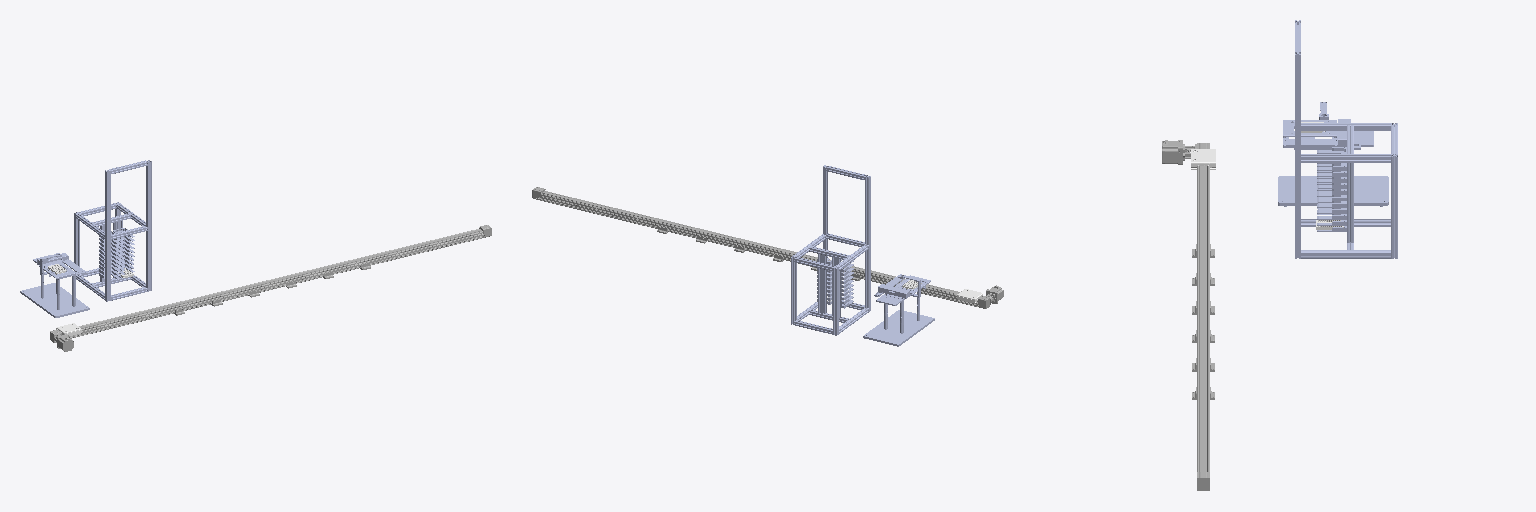
robot.urdf — Digital_twin_lab-3:
<?xml version="1.0" encoding="utf-8"?>
<!-- This URDF was automatically created by SolidWorks to URDF Exporter! Originally created by [author] ([email redacted]) 
     Commit Version: 1.6.0-4-g7f85cfe  Build Version: 1.6.7995.38578
     For more information, please see http://wiki.ros.org/sw_urdf_exporter -->
<robot
  name="Digital_twin_lab-3">
  <link
    name="base_link">
    <inertial>
      <origin
        xyz="1.78900440586769 -0.881080760642453 -0.1165449489918"
        rpy="0 0 0" />
      <mass
        value="199.608158242893" />
      <inertia
        ixx="10.5666582157859"
        ixy="1.27793031995562E-10"
        ixz="2.82196989777788E-10"
        iyy="42.9924156247687"
        iyz="5.91605791574804E-11"
        izz="52.3672725427771" />
    </inertial>
    <visual>
      <origin
        xyz="0 0 0"
        rpy="0 0 0" />
      <geometry>
        <mesh
          filename="package://Digital_twin_lab-3/meshes/base_link.STL" />
      </geometry>
      <material
        name="">
        <color
          rgba="0.752941176470588 0.752941176470588 0.752941176470588 1" />
      </material>
    </visual>
    <collision>
      <origin
        xyz="0 0 0"
        rpy="0 0 0" />
      <geometry>
        <mesh
          filename="package://Digital_twin_lab-3/meshes/base_link.STL" />
      </geometry>
    </collision>
  </link>
  <link
    name="slide-rail">
    <inertial>
      <origin
        xyz="-1.43995243789554 -0.866665161394356 -0.200928921167978"
        rpy="0 0 0" />
      <mass
        value="9.10141973800343" />
      <inertia
        ixx="0.00462584403154433"
        ixy="-2.47766910593198E-07"
        ixz="2.22783567848517E-08"
        iyy="7.2200527077908"
        iyz="6.58677957713716E-06"
        izz="7.22100259175683" />
    </inertial>
    <visual>
      <origin
        xyz="0 0 0"
        rpy="0 0 0" />
      <geometry>
        <mesh
          filename="package://Digital_twin_lab-3/meshes/slide-rail.STL" />
      </geometry>
      <material
        name="">
        <color
          rgba="0.752941176470588 0.752941176470588 0.752941176470588 1" />
      </material>
    </visual>
    <collision>
      <origin
        xyz="0 0 0"
        rpy="0 0 0" />
      <geometry>
        <mesh
          filename="package://Digital_twin_lab-3/meshes/slide-rail.STL" />
      </geometry>
    </collision>
  </link>
  <joint
    name="slide-rail-j"
    type="fixed">
    <origin
      xyz="3.08771486040588 -0.0803389725836143 0.244946823793314"
      rpy="0 0 0" />
    <parent
      link="base_link" />
    <child
      link="slide-rail" />
    <axis
      xyz="0 0 0" />
  </joint>
  <link
    name="slide">
    <inertial>
      <origin
        xyz="0.0726026016397733 0.00430886913851669 0.0405868162079005"
        rpy="0 0 0" />
      <mass
        value="0.419983323514115" />
      <inertia
        ixx="0.000608866562581119"
        ixy="2.96122492561252E-10"
        ixz="1.1348537052061E-09"
        iyy="0.000510747138587582"
        iyz="-1.16613327497699E-06"
        izz="0.00103925065608287" />
    </inertial>
    <visual>
      <origin
        xyz="0 0 0"
        rpy="0 0 0" />
      <geometry>
        <mesh
          filename="package://Digital_twin_lab-3/meshes/slide.STL" />
      </geometry>
      <material
        name="">
        <color
          rgba="1 1 1 1" />
      </material>
    </visual>
    <collision>
      <origin
        xyz="0 0 0"
        rpy="0 0 0" />
      <geometry>
        <mesh
          filename="package://Digital_twin_lab-3/meshes/slide.STL" />
      </geometry>
    </collision>
  </link>
  <joint
    name="slide-j"
    type="prismatic">
    <origin
      xyz="0.081634 -0.94164 0.033447"
      rpy="0 0 0" />
    <parent
      link="base_link" />
    <child
      link="slide" />
    <axis
      xyz="-1 0 0" />
    <limit
      lower="-3.5"
      upper="0"
      effort="0"
      velocity="0" />
  </joint>
  
  <link
    name="squid">
    <inertial>
      <origin
        xyz="-0.00217519723344878 -0.0152297106388054 0.107745951384963"
        rpy="0 0 0" />
      <mass
        value="3.63619504672605" />
      <inertia
        ixx="0.0528314659485866"
        ixy="0.000282892683176604"
        ixz="3.98656771778672E-06"
        iyy="0.0195251698514204"
        iyz="6.618724619776E-07"
        izz="0.0673167761503225" />
    </inertial>
    <visual>
      <origin
        xyz="0 0 0"
        rpy="0 0 0" />
      <geometry>
        <mesh
          filename="package://Digital_twin_lab-3/meshes/squid.STL" />
      </geometry>
      <material
        name="">
        <color
          rgba="0.792156862745098 0.819607843137255 0.933333333333333 1" />
      </material>
    </visual>
    <collision>
      <origin
        xyz="0 0 0"
        rpy="0 0 0" />
      <geometry>
        <mesh
          filename="package://Digital_twin_lab-3/meshes/squid.STL" />
      </geometry>
    </collision>
  </link>
  <joint
    name="squid-j"
    type="fixed">
    <origin
      xyz="0.37264 -0.35916 0.0092903"
      rpy="0 0 0" />
    <parent
      link="base_link" />
    <child
      link="squid" />
    <axis
      xyz="0 0 0" />
  </joint>
  <link
    name="incubator">
    <inertial>
      <origin
        xyz="0.14857 0.18235 0.29938"
        rpy="0 0 0" />
      <mass
        value="4.1514" />
      <inertia
        ixx="0.041296"
        ixy="-2.879E-05"
        ixz="-2.2835E-06"
        iyy="0.039297"
        iyz="-9.7481E-05"
        izz="0.017513" />
    </inertial>
    <visual>
      <origin
        xyz="0 0 0"
        rpy="0 0 0" />
      <geometry>
        <mesh
          filename="package://Digital_twin_lab-3/meshes/incubator.STL" />
      </geometry>
      <material
        name="">
        <color
          rgba="0.79216 0.81961 0.93333 1" />
      </material>
    </visual>
    <collision>
      <origin
        xyz="0 0 0"
        rpy="0 0 0" />
      <geometry>
        <mesh
          filename="package://Digital_twin_lab-3/meshes/incubator.STL" />
      </geometry>
    </collision>
  </link>
  <joint
    name="incubator-j"
    type="fixed">
    <origin
      xyz="0.72099 -0.51752 0.016115"
      rpy="0 0 0" />
    <parent
      link="base_link" />
    <child
      link="incubator" />
    <axis
      xyz="0 0 0" />
  </joint>
  <link
    name="1">
    <inertial>
      <origin
        xyz="4.59589526852766E-05 7.05328323838961E-05 0.00753805993131679"
        rpy="0 0 0" />
      <mass
        value="0.0868244944825263" />
      <inertia
        ixx="0.000126271352614738"
        ixy="2.40742980191021E-07"
        ixz="-8.29625367426574E-09"
        iyy="5.64144498466679E-05"
        iyz="-1.27388068981687E-08"
        izz="0.000180549328693109" />
    </inertial>
    <visual>
      <origin
        xyz="0 0 0"
        rpy="0 0 0" />
      <geometry>
        <mesh
          filename="package://Digital_twin_lab-3/meshes/1.STL" />
      </geometry>
      <material
        name="">
        <color
          rgba="1 1 1 1" />
      </material>
    </visual>
    <collision>
      <origin
        xyz="0 0 0"
        rpy="0 0 0" />
      <geometry>
        <mesh
          filename="package://Digital_twin_lab-3/meshes/1.STL" />
      </geometry>
    </collision>
  </link>
  <joint
    name="1j"
    type="fixed">
    <origin
      xyz="0.33093 -0.46212 0.30199"
      rpy="0 0 0" />
    <parent
      link="base_link" />
    <child
      link="1" />
    <axis
      xyz="0 0 0" />
  </joint>
  <link
    name="2">
    <inertial>
      <origin
        xyz="4.59589526853321E-05 7.0532832383785E-05 0.00753805993131677"
        rpy="0 0 0" />
      <mass
        value="0.0868244944825264" />
      <inertia
        ixx="0.000126271352614737"
        ixy="2.40742980190993E-07"
        ixz="-8.29625367428775E-09"
        iyy="5.64144498466676E-05"
        iyz="-1.2738806898164E-08"
        izz="0.000180549328693109" />
    </inertial>
    <visual>
      <origin
        xyz="0 0 0"
        rpy="0 0 0" />
      <geometry>
        <mesh
          filename="package://Digital_twin_lab-3/meshes/2.STL" />
      </geometry>
      <material
        name="">
        <color
          rgba="1 1 1 1" />
      </material>
    </visual>
    <collision>
      <origin
        xyz="0 0 0"
        rpy="0 0 0" />
      <geometry>
        <mesh
          filename="package://Digital_twin_lab-3/meshes/2.STL" />
      </geometry>
    </collision>
  </link>
  <joint
    name="2j"
    type="fixed">
    <origin
      xyz="0.81307 -0.37503 0.10027"
      rpy="0 0 0" />
    <parent
      link="base_link" />
    <child
      link="2" />
    <axis
      xyz="0 0 0" />
  </joint>
  <link
    name="3">
    <inertial>
      <origin
        xyz="0 0 0"
        rpy="0 0 0" />
      <mass
        value="0" />
      <inertia
        ixx="0"
        ixy="0"
        ixz="0"
        iyy="0"
        iyz="0"
        izz="0" />
    </inertial>
    <visual>
      <origin
        xyz="0 0 0"
        rpy="0 0 0" />
      <geometry>
        <mesh
          filename="package://Digital_twin_lab-3/meshes/3.STL" />
      </geometry>
      <material
        name="">
        <color
          rgba="1 1 1 1" />
      </material>
    </visual>
    <collision>
      <origin
        xyz="0 0 0"
        rpy="0 0 0" />
      <geometry>
        <mesh
          filename="package://Digital_twin_lab-3/meshes/3.STL" />
      </geometry>
    </collision>
  </link>
  <joint
    name="3j"
    type="fixed">
    <origin
      xyz="0.922439977066649 -0.375034358450601 0.100266923263157"
      rpy="0 0 0" />
    <parent
      link="base_link" />
    <child
      link="3" />
    <axis
      xyz="0 0 0" />
  </joint>
</robot>

--- Render facts (derived) ---
3 views of the same robot in one strip: view 1: azimuth 30°, elevation 25°; view 2: azimuth 150°, elevation 25°; view 3: azimuth 270°, elevation 25° (orthographic).
Model Digital_twin_lab-3 with 8 links and 7 joints (1 prismatic, 6 fixed), rooted at base_link, posed all joints at 0.
Links seen in each view (by area): view 1: incubator, slide-rail, squid; view 2: incubator, slide-rail, squid; view 3: incubator, slide-rail, squid.
Boxes of the visible links, x1,y1,x2,y2 form: incubator: (74, 160, 151, 301); slide-rail: (50, 225, 491, 351); squid: (20, 253, 89, 317); incubator: (791, 165, 870, 335); slide-rail: (532, 187, 1003, 308); squid: (863, 274, 934, 346); incubator: (1295, 20, 1397, 258); slide-rail: (1162, 140, 1214, 490); squid: (1278, 102, 1388, 206).
Size in the robot's own frame: 3.54 by 1.05 by 1 metres.
Meshes: 8 distinct files referenced, 6 mesh visuals loaded (6 binary STL); not drawn: 2 (reference not matched to a file when rendering).